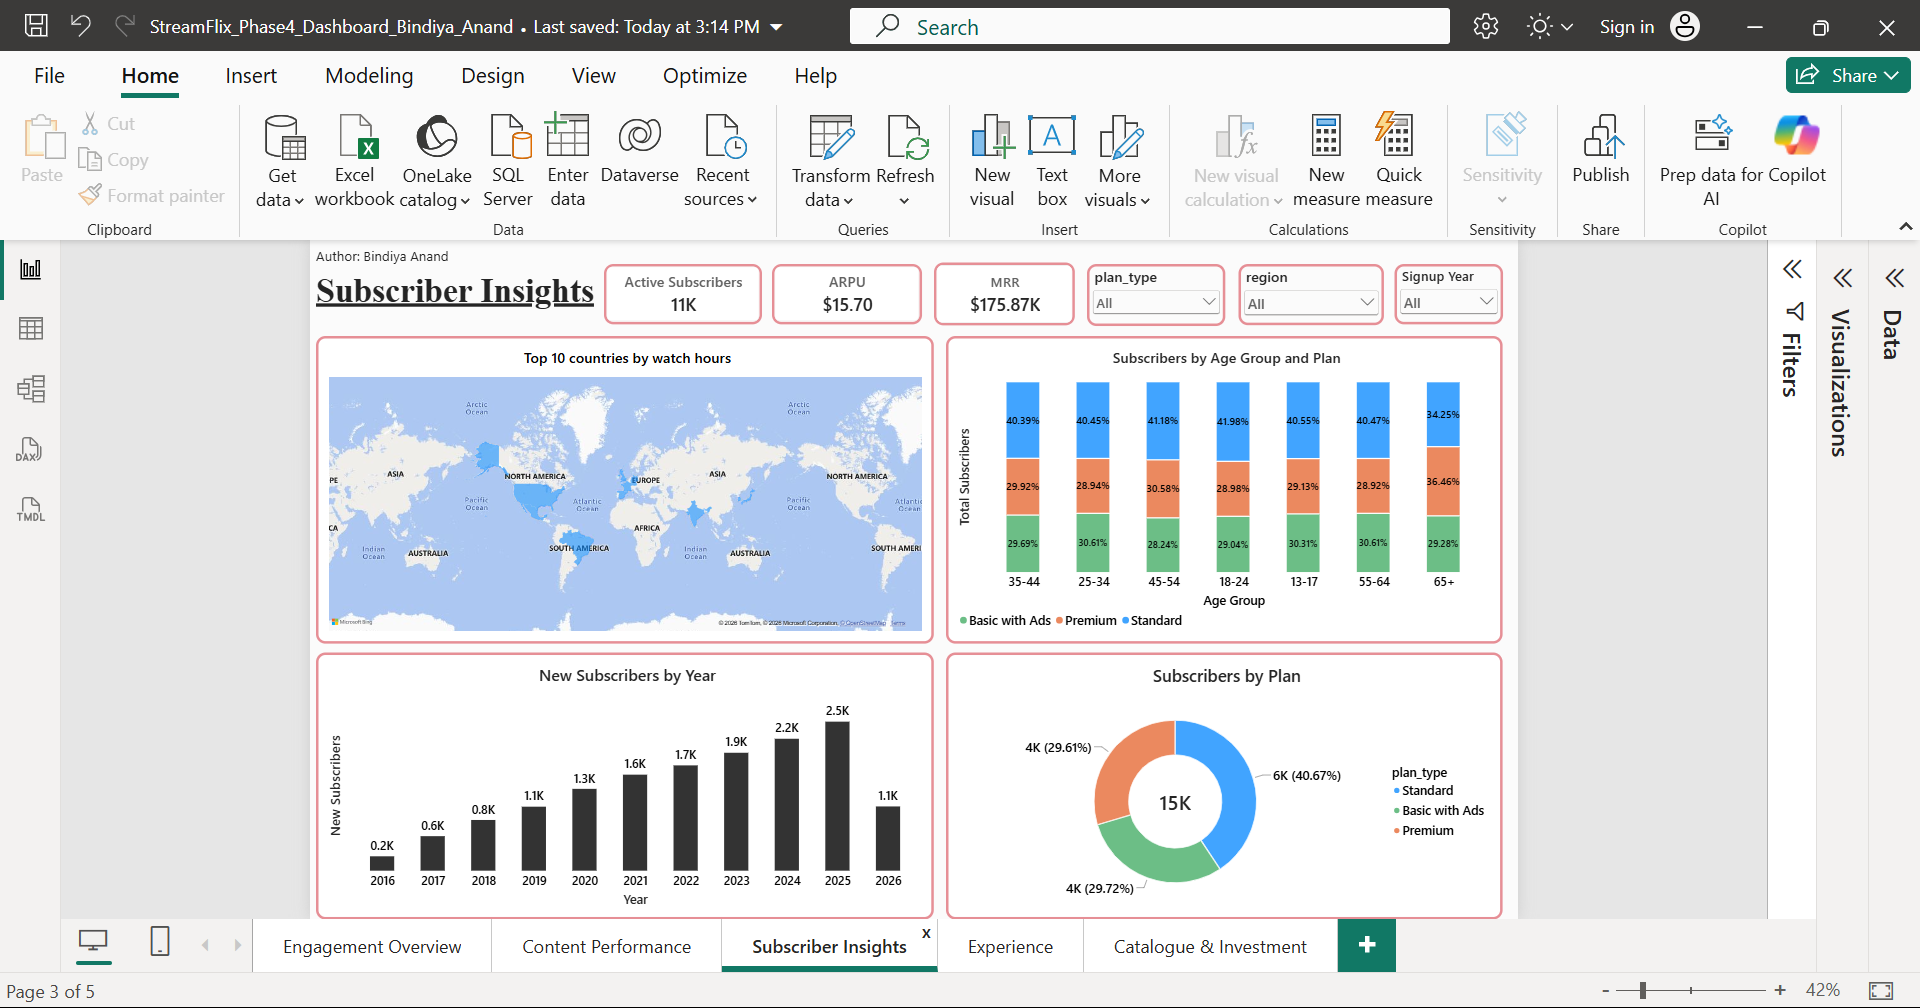

What the dashboard file says about the page in this screenshot:
{"tool":"powerbi","page":{"name":"Subscriber Insights","canvas":[1920,1080],"ordinal":2},"visuals":[{"type":"textbox","box":[10,50,477.2,71.6],"z":0},{"type":"cardVisual","fields":{"Data":["_Measures.Active Subscribers"]},"box":[467.1,38.6,251.4,95.7],"z":1000},{"type":"cardVisual","fields":{"Data":["_Measures.ARPU"]},"box":[735.7,37.1,238.6,95.7],"z":2000},{"type":"cardVisual","fields":{"Data":["_Measures.MRR"]},"box":[991.4,35.7,224.3,100.2],"z":3000},{"type":"donutChart","title":"Subscribers by Plan","fields":{"Category":["subscribers.plan_type"],"Y":["_Measures.Total Subscribers"]},"box":[1011.6,656.1,885.2,424.7],"z":4000},{"type":"hundredPercentStackedColumnChart","title":"Subscribers by Age Group and Plan","fields":{"Category":["subscribers.Age Group"],"Series":["subscribers.plan_type"],"Y":["_Measures.Total Subscribers"]},"box":[1011.6,152.7,885.2,489.1],"z":5000},{"type":"filledMap","title":"Top 10 countries by watch hours","fields":{"Category":["subscribers.country"],"Y":["_Measures.Total Watch Hours"]},"box":[9.5,152.7,983,489.1],"z":6000},{"type":"clusteredColumnChart","fields":{"Category":["subscribers.Signup Month.Variation.Date Hierarchy.Year","subscribers.Signup Month.Variation.Date Hierarchy.Month"],"Y":["_Measures.New Subscribers"]},"box":[9.5,656.1,983,424.7],"z":7000},{"type":"slicer","fields":{"Values":["subscribers.plan_type"]},"box":[1235.7,37.1,220,98.6],"z":8000},{"type":"slicer","fields":{"Values":["subscribers.region"]},"box":[1475.7,37.1,231.4,97.1],"z":9000},{"type":"slicer","fields":{"Values":["subscribers.Signup Year"]},"box":[1724.3,37.1,172.9,95.7],"z":10000},{"type":"textbox","box":[10,10,214.7,40.6],"z":11000}]}

Visuals, with their boxes on the page's 1920x1080 design canvas (x1, y1, x2, y2). These are canvas units, not pixel positions in the 1920x1008 screenshot, which may show the page scaled, cropped or inside an application window:
textbox: <region>10, 50, 487, 122</region>
cardVisual - _Measures.Active Subscribers: <region>467, 39, 718, 134</region>
cardVisual - _Measures.ARPU: <region>736, 37, 974, 133</region>
cardVisual - _Measures.MRR: <region>991, 36, 1216, 136</region>
"Subscribers by Plan" donutChart: <region>1012, 656, 1897, 1081</region>
"Subscribers by Age Group and Plan" hundredPercentStackedColumnChart: <region>1012, 153, 1897, 642</region>
"Top 10 countries by watch hours" filledMap: <region>10, 153, 992, 642</region>
clusteredColumnChart - subscribers.Signup Month.Variation.Date Hierarchy.Year x subscribers.Signup Month.Variation.Date Hierarchy.Month: <region>10, 656, 992, 1081</region>
slicer - subscribers.plan_type: <region>1236, 37, 1456, 136</region>
slicer - subscribers.region: <region>1476, 37, 1707, 134</region>
slicer - subscribers.Signup Year: <region>1724, 37, 1897, 133</region>
textbox: <region>10, 10, 225, 51</region>
